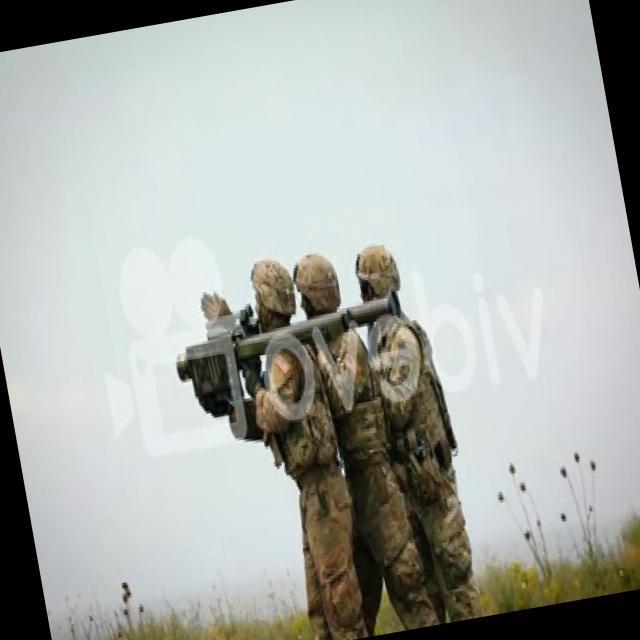rocket: (168, 284, 408, 389)
